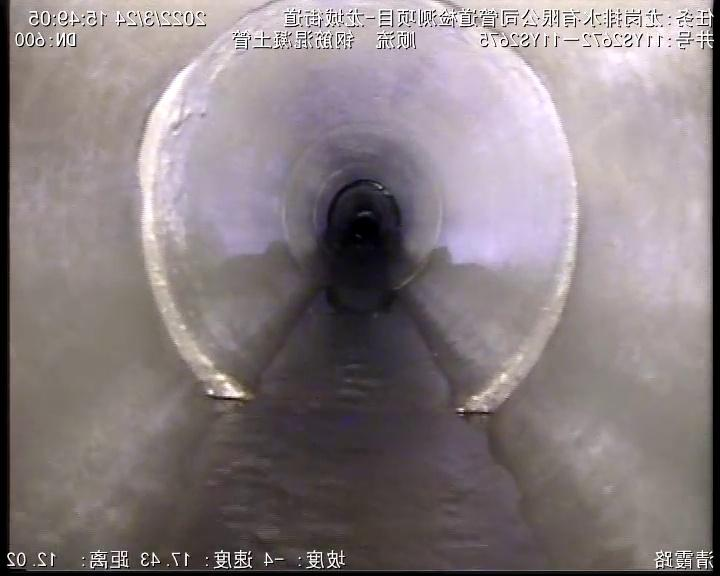CKTJ: (457, 56, 579, 414), (139, 38, 253, 400)
